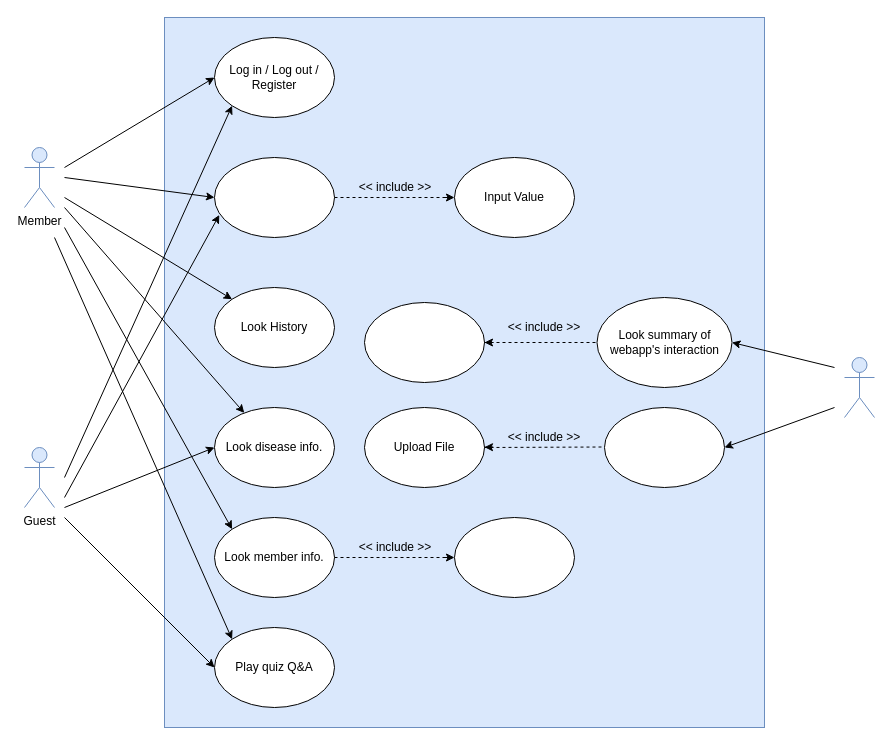
Image size: 893x745. Some labels were removed from this diagram. Each missing label, with the centre of its shape:
"Admin" belongs at pixel 859 387.
"Detect Disease" belongs at pixel 274 197.
"Edit member info." belongs at pixel 514 557.
"See detailed summary" belongs at pixel 424 342.
"Update Model" belongs at pixel 664 447.
